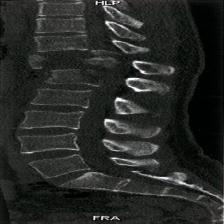compression-crush-fracture: (12, 0, 224, 224)
